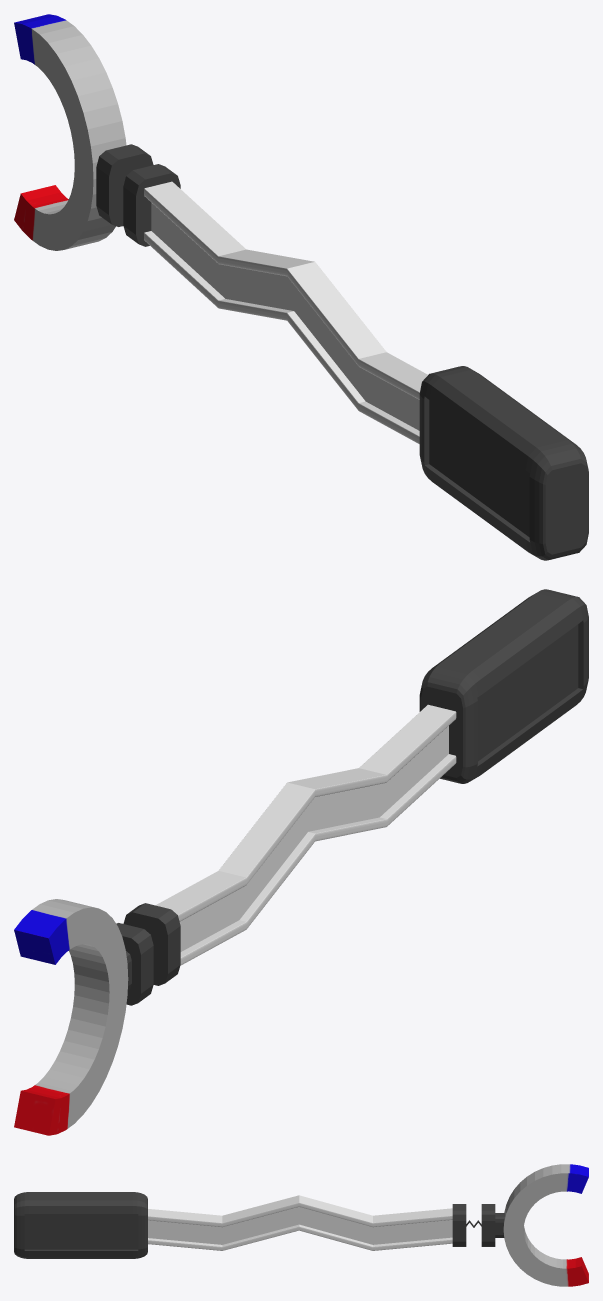
The model's file is magnet_wrench.glb.
3 renders of one model, top to bottom at view 1: azimuth 30°, elevation 25°; view 2: azimuth 150°, elevation 25°; view 3: azimuth 270°, elevation 25°, orthographic. The views are drawn at different scales.
Parts seen in each view (by area): view 1: Shaft, Magnet; view 2: Shaft, Magnet; view 3: Shaft, Magnet.
Part boxes in pixels (bbox=[...]): Shaft: bbox=[123, 164, 588, 560]; Magnet: bbox=[14, 14, 153, 250]; Shaft: bbox=[123, 589, 588, 985]; Magnet: bbox=[14, 899, 153, 1135]; Shaft: bbox=[14, 1192, 466, 1258]; Magnet: bbox=[481, 1164, 588, 1286].
Size of the model in its own units: 0.1975 by 0.7368 by 3.38.
3 materials, 1 textured.
